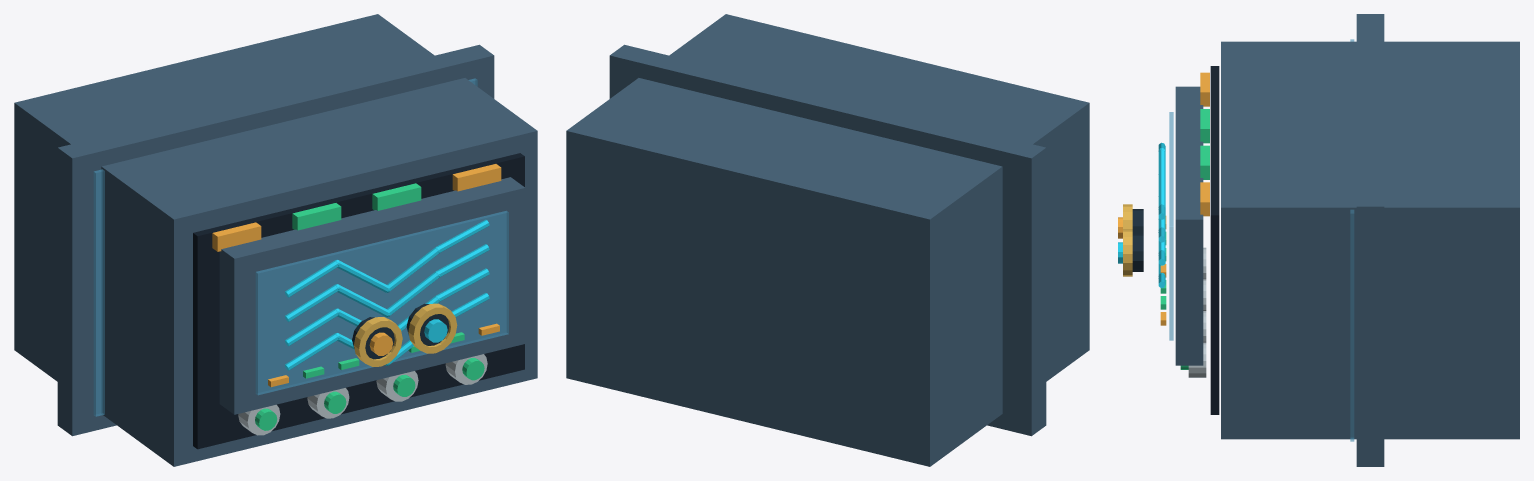
The model's file is 54_L81_ErrorPropagationTraceAnalyzer.fbx.
3 renders of one model, left to right at view 1: azimuth 30°, elevation 25°; view 2: azimuth 150°, elevation 25°; view 3: azimuth 270°, elevation 25°, orthographic. The views are drawn at different scales.
Visible parts, largest first — view 1: ErrorPropagationTraceAnalyzer, ErrorPropagationTraceAnalyzer_Part_0051, ErrorPropagationTraceAnalyzer_Part_0052; view 2: ErrorPropagationTraceAnalyzer, ErrorPropagationTraceAnalyzer_Part_0051; view 3: ErrorPropagationTraceAnalyzer, ErrorPropagationTraceAnalyzer_Part_0051, ErrorPropagationTraceAnalyzer_Part_0052.
Boxes of the visible parts, x1=… form: ErrorPropagationTraceAnalyzer: x1=14, y1=14, x2=537, y2=466; ErrorPropagationTraceAnalyzer_Part_0051: x1=57, y1=44, x2=494, y2=436; ErrorPropagationTraceAnalyzer_Part_0052: x1=93, y1=78, x2=477, y2=416; ErrorPropagationTraceAnalyzer: x1=566, y1=14, x2=1089, y2=466; ErrorPropagationTraceAnalyzer_Part_0051: x1=609, y1=44, x2=1046, y2=436; ErrorPropagationTraceAnalyzer: x1=1118, y1=41, x2=1519, y2=439; ErrorPropagationTraceAnalyzer_Part_0051: x1=1356, y1=14, x2=1384, y2=466; ErrorPropagationTraceAnalyzer_Part_0052: x1=1350, y1=39, x2=1354, y2=441.
Bounding box in the file's own units: 116 × 73 × 102.
